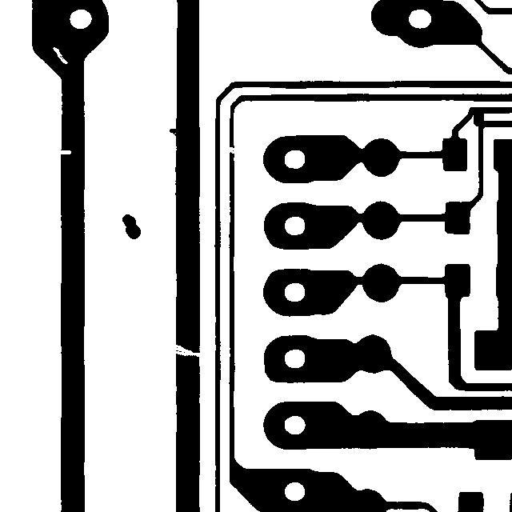copper: (114, 206, 148, 246)
mousebite: (51, 142, 78, 162)
open: (163, 336, 210, 364), (218, 139, 247, 161)
pin-hole: (45, 39, 75, 71)
short: (466, 102, 491, 134)
spur: (162, 121, 186, 144)
